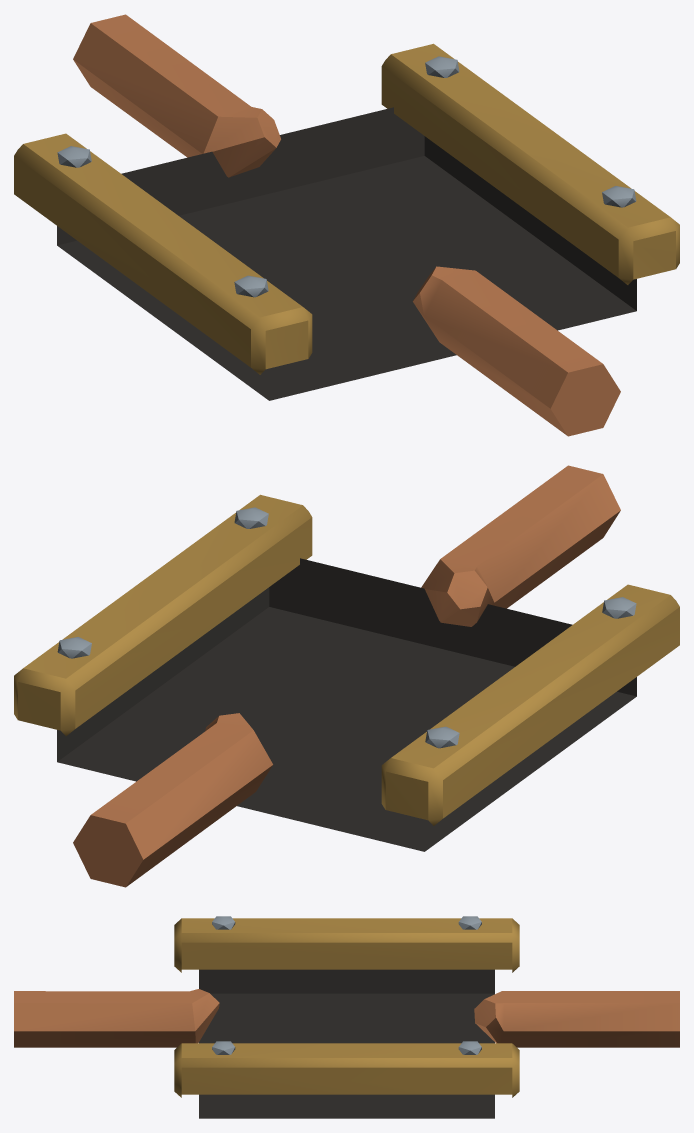
File: ruins-pc-gap.glb
3 renders of one model, top to bottom at view 1: azimuth 30°, elevation 25°; view 2: azimuth 150°, elevation 25°; view 3: azimuth 270°, elevation 25°, orthographic. The views are drawn at different scales.
Visible parts, largest first — view 1: 0_ruins_pc_gap; view 2: 0_ruins_pc_gap; view 3: 0_ruins_pc_gap.
Part boxes in pixels (x1,y1,x2,y2): 0_ruins_pc_gap: (14,14,679,436); 0_ruins_pc_gap: (14,465,679,887); 0_ruins_pc_gap: (14,916,679,1118).
Size of the model in its own units: 0.28 by 0.069 by 0.54.
